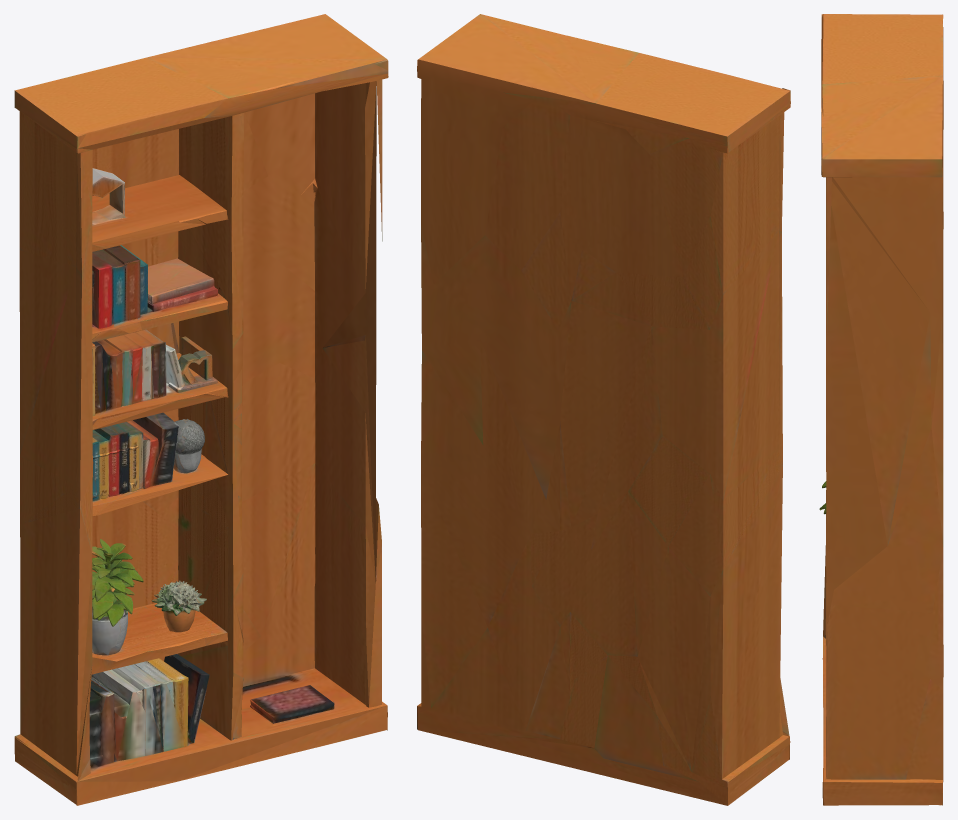
The model's file is bookshelf.glb.
3 renders of one model, left to right at view 1: azimuth 30°, elevation 25°; view 2: azimuth 150°, elevation 25°; view 3: azimuth 270°, elevation 25°, orthographic. The views are drawn at different scales.
Bounding box in the file's own units: 0.9241 × 1.9 × 0.3308.
Materials: 1 (1 with a texture image).
